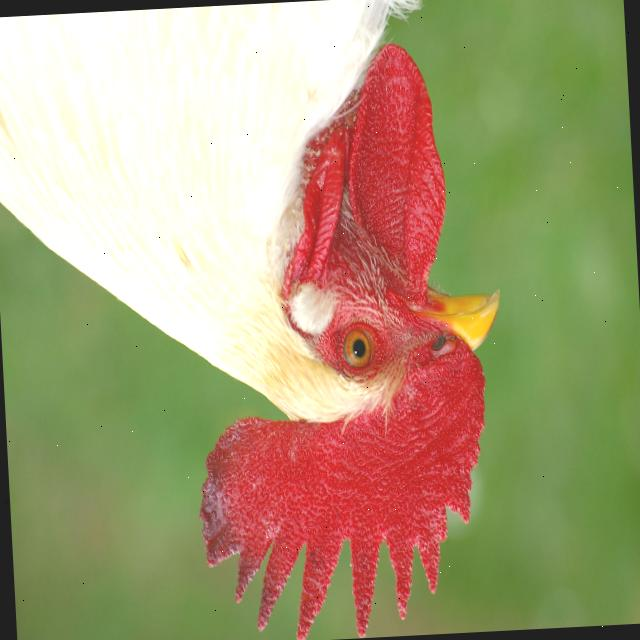Healthy: (0, 0, 518, 640)
